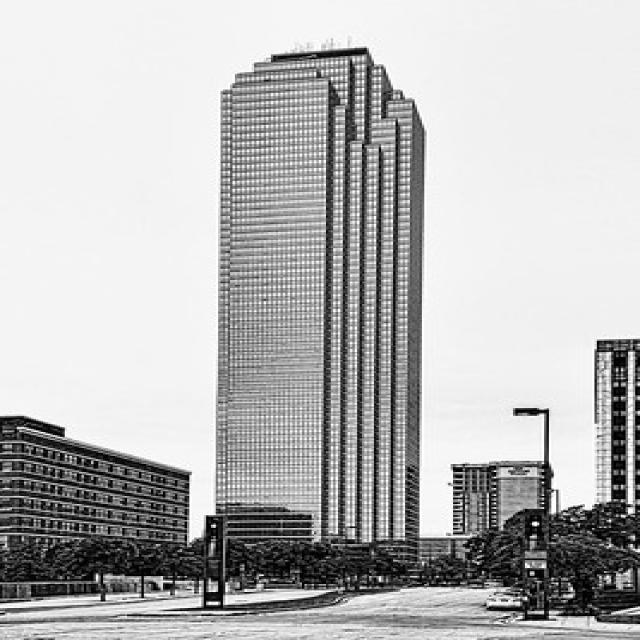building: (204, 41, 424, 582)
